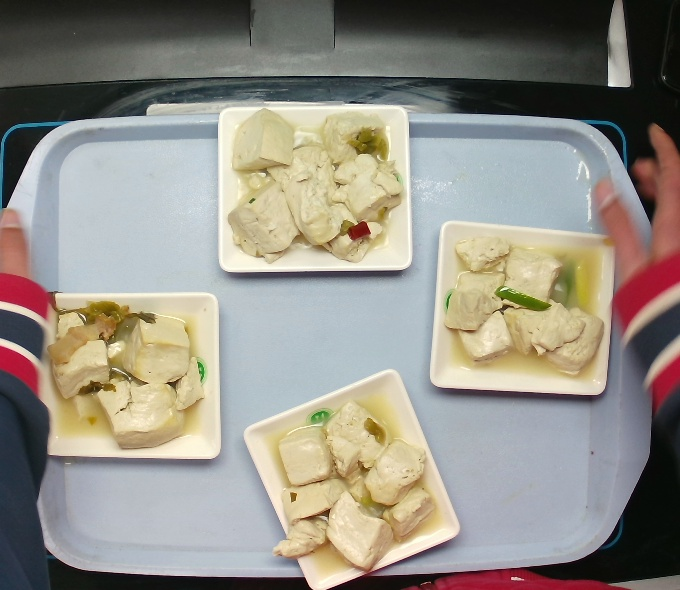wcq-LuDouFu: (267, 394, 443, 583), (217, 107, 410, 269), (436, 221, 609, 381), (44, 292, 211, 454)
